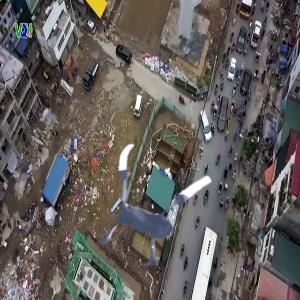drone: (81, 139, 227, 285)
